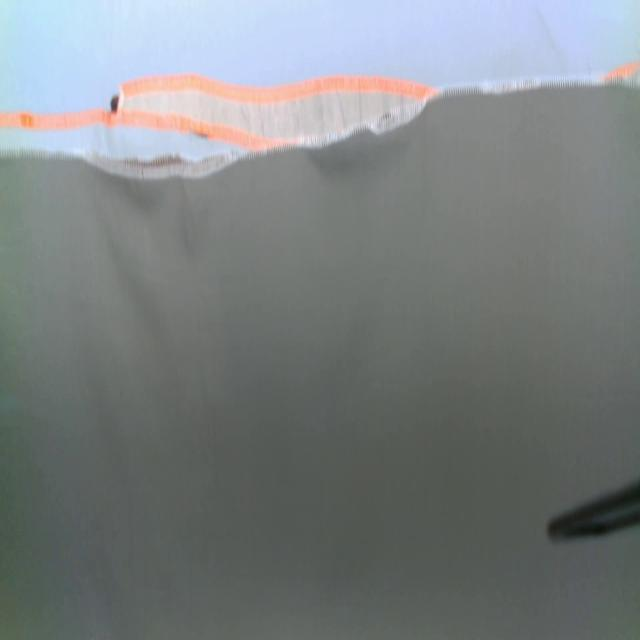hole: (109, 92, 121, 116)
